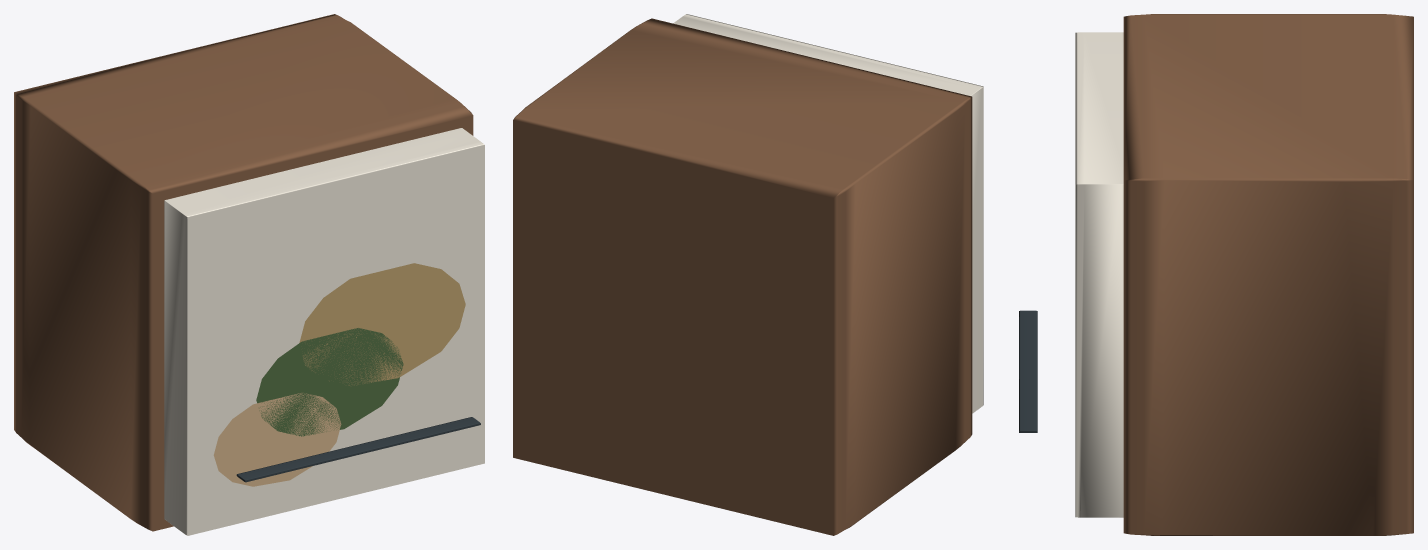
The model's file is studio-art-abstract.lod.glb.
3 views of the same model, side by side, from view 1: azimuth 30°, elevation 25°; view 2: azimuth 150°, elevation 25°; view 3: azimuth 270°, elevation 25° (orthographic). The views are drawn at different scales.
Parts seen in each view (by area): view 1: upholstery (×3), part (×3); view 2: upholstery (×2); view 3: upholstery (×3).
Part boxes in pixels (x1=…): upholstery (×3): x1=14, y1=14, x2=484, y2=535; part (×3): x1=213, y1=263, x2=465, y2=486; upholstery (×2): x1=513, y1=14, x2=983, y2=535; upholstery (×3): x1=1019, y1=14, x2=1413, y2=535.
Bounding box in the file's own units: 1 × 1 × 1.
